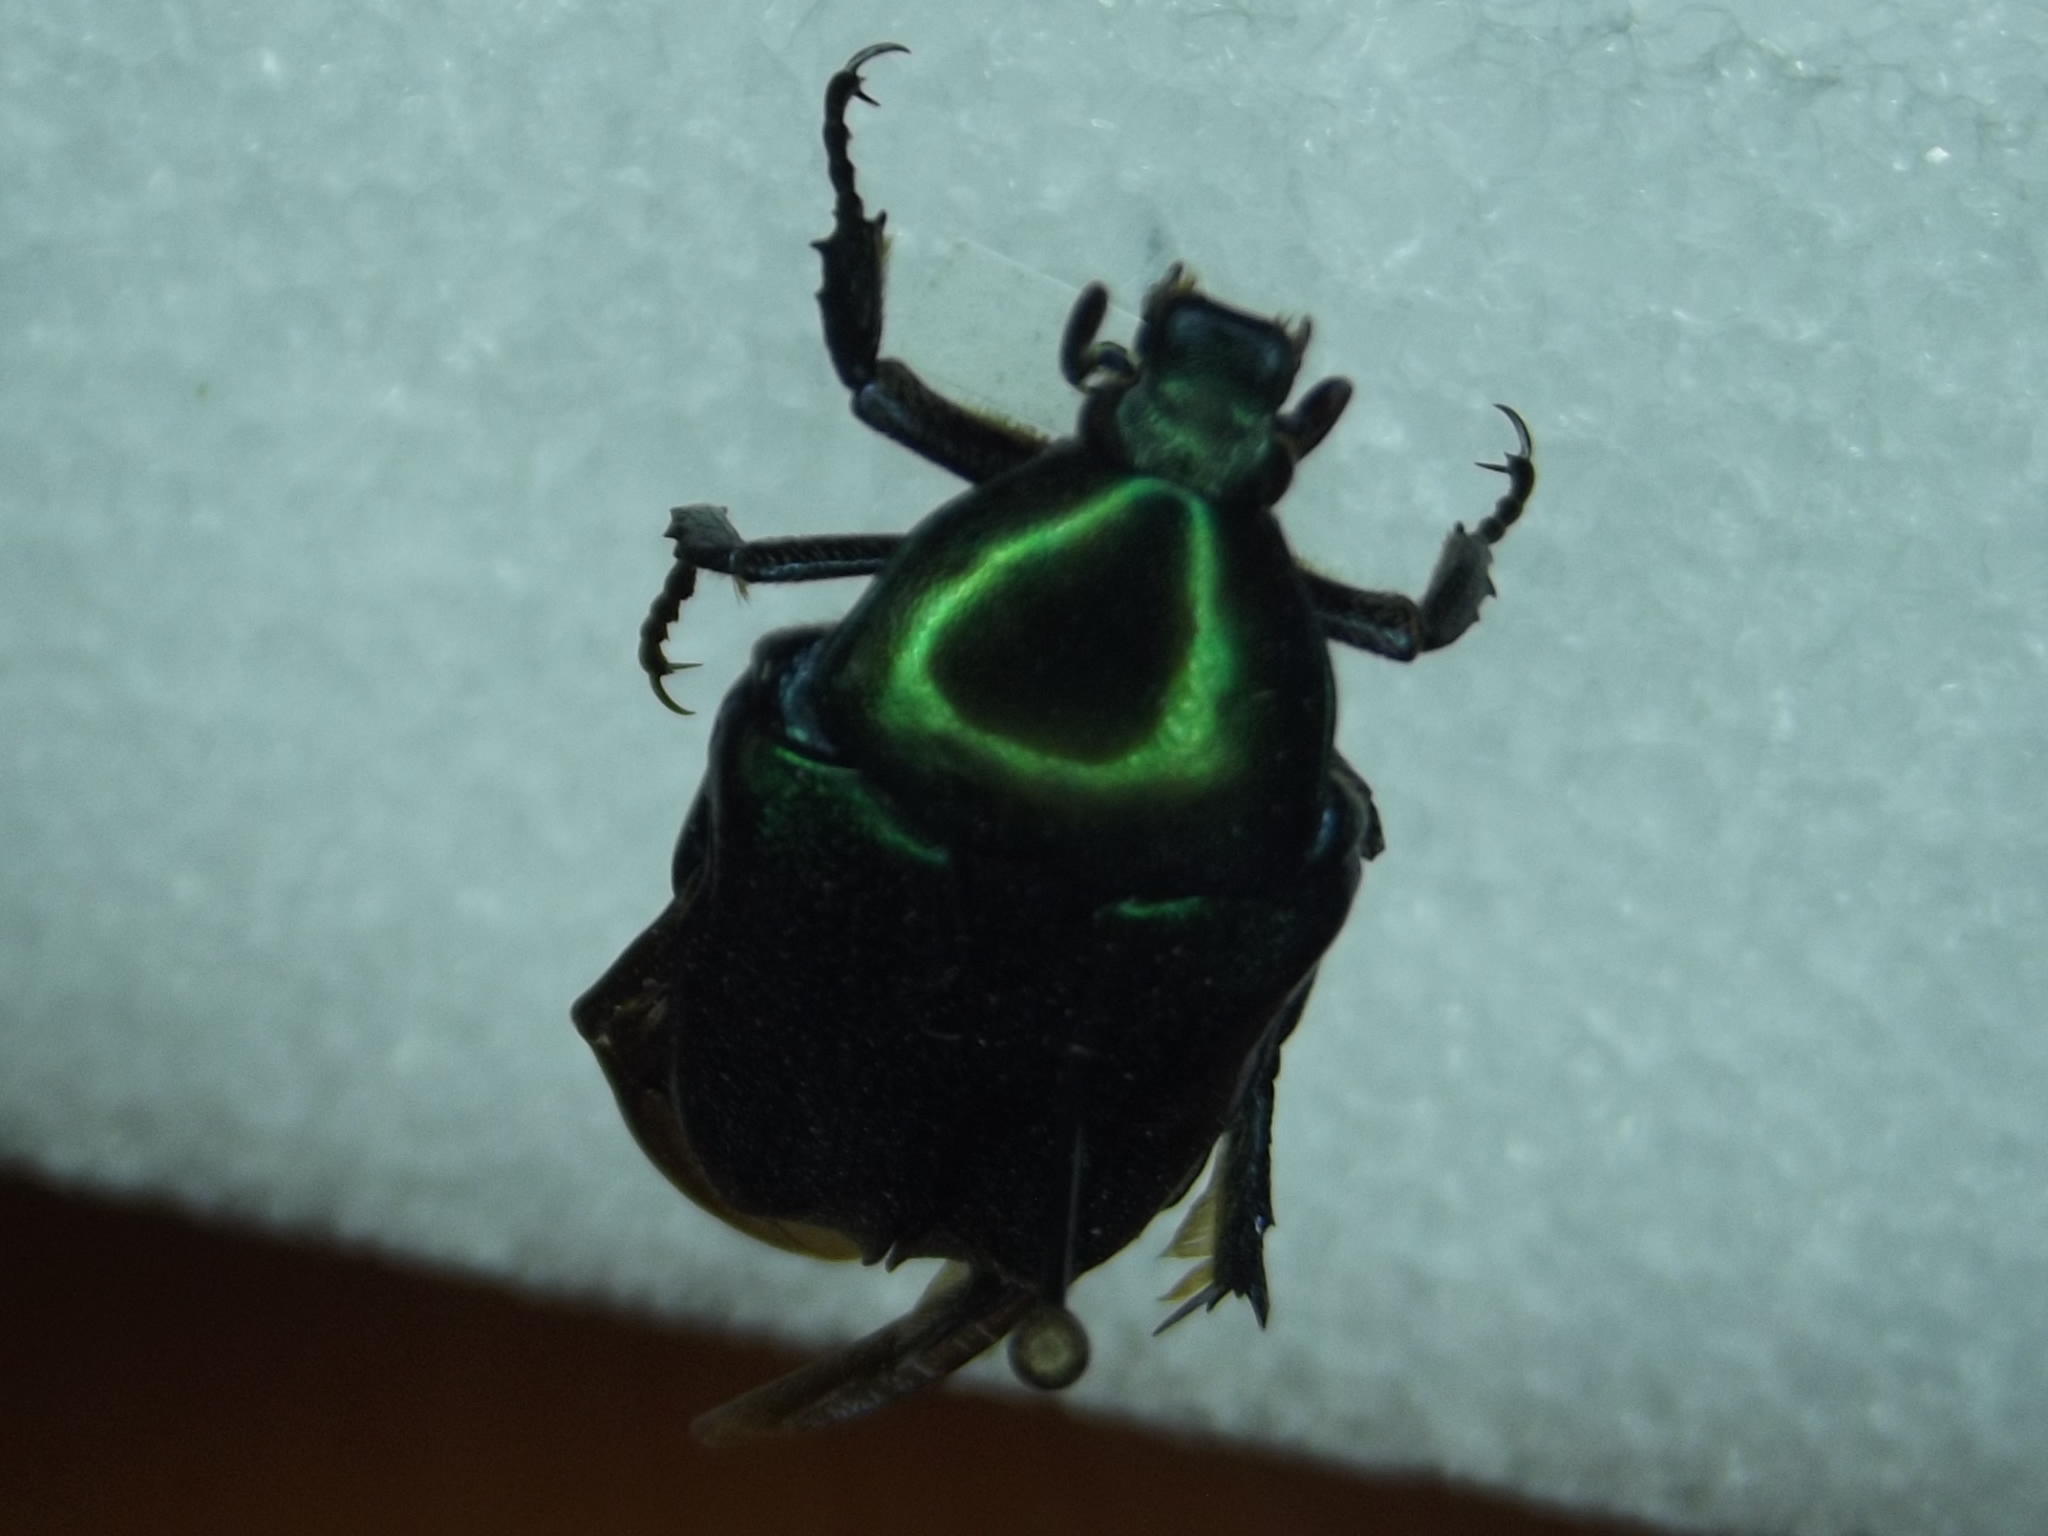Protaetia_angustata_angustata: (534, 24, 1580, 1459)
